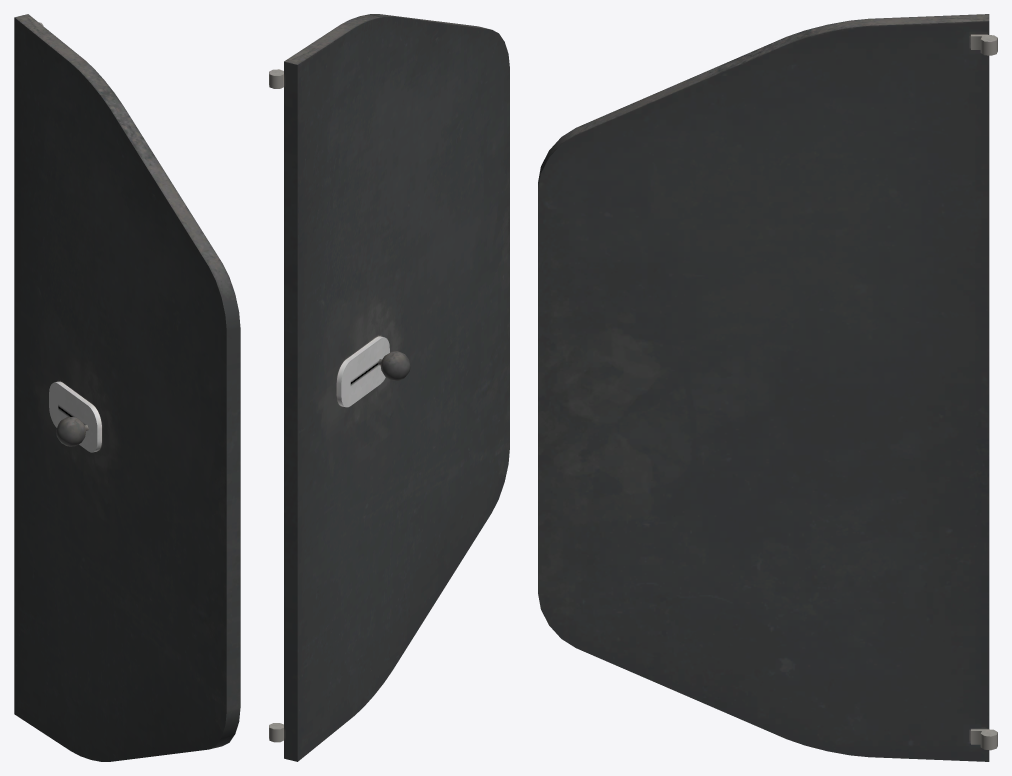
Rendered from SM_Lane_Divider_Door_01b.glb.
3 views of the same model, side by side, from view 1: azimuth 30°, elevation 25°; view 2: azimuth 150°, elevation 25°; view 3: azimuth 270°, elevation 25° (orthographic). The views are drawn at different scales.
Parts seen in each view (by area): view 1: SM_Lane_Divider_Door_01b; view 2: SM_Lane_Divider_Door_01b; view 3: SM_Lane_Divider_Door_01b.
Part boxes in pixels (bbox=[...]): SM_Lane_Divider_Door_01b: bbox=[14, 14, 240, 761]; SM_Lane_Divider_Door_01b: bbox=[269, 14, 509, 761]; SM_Lane_Divider_Door_01b: bbox=[538, 14, 997, 761].
Bounding box in the file's own units: 0.1088 × 1.18 × 0.6614.
Materials: 1 (1 with a texture image).
